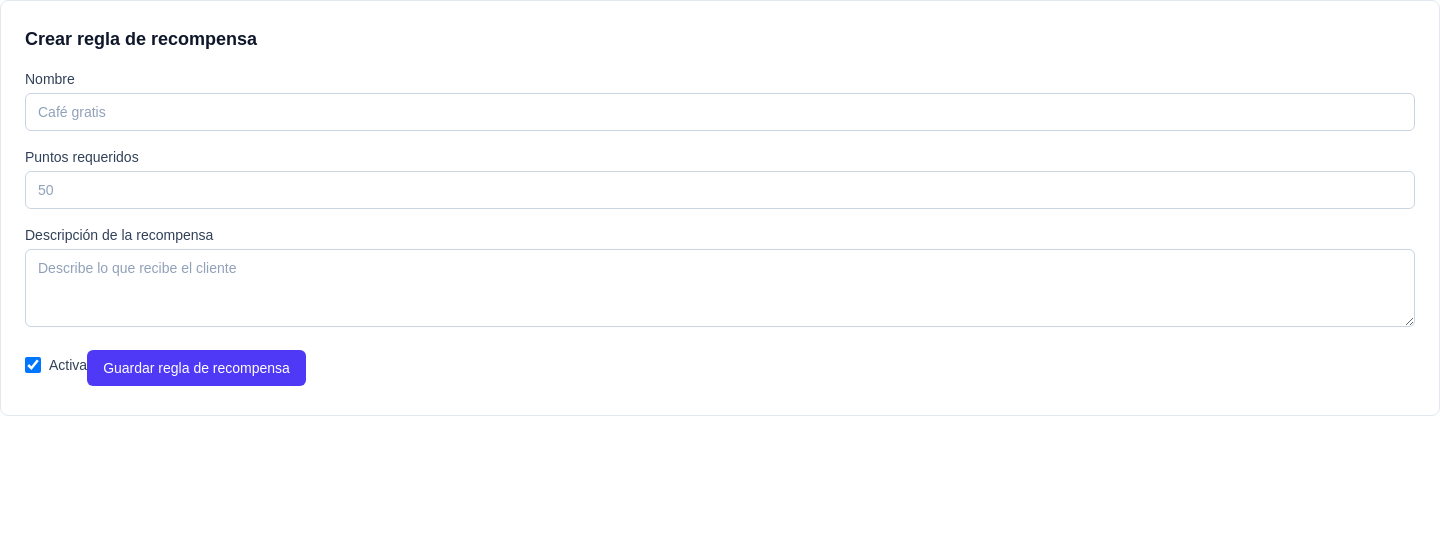
Test: RewardRuleForm integration › shows validation errors for invalid submit
The image size is (1440, 547).
Click the button "Guardar regla de recompensa" at (196, 368), box top-left (87, 350), bottom-right (306, 386)
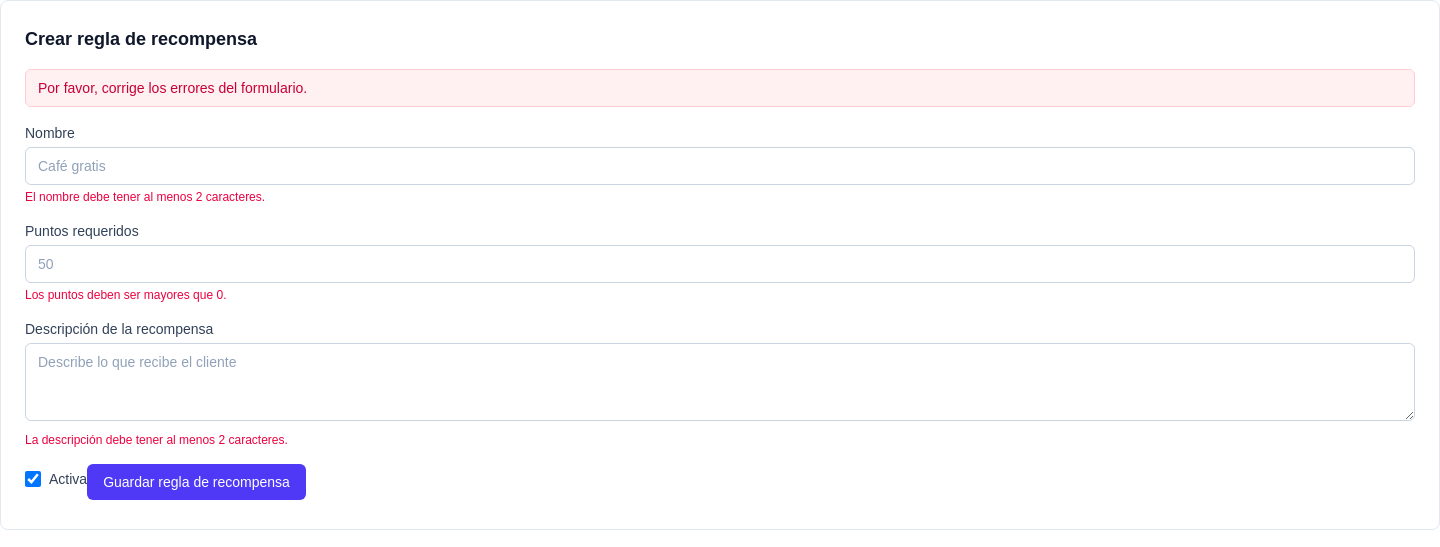
Expected: the text "Por favor, corrige los errores del formulario." is shown, top-left (25, 69), bottom-right (1415, 107)
Expected: the text "El nombre debe tener al menos 2 caracteres." is shown, top-left (25, 190), bottom-right (265, 204)
Expected: the text "Los puntos deben ser mayores que 0." is shown, top-left (25, 288), bottom-right (226, 302)
